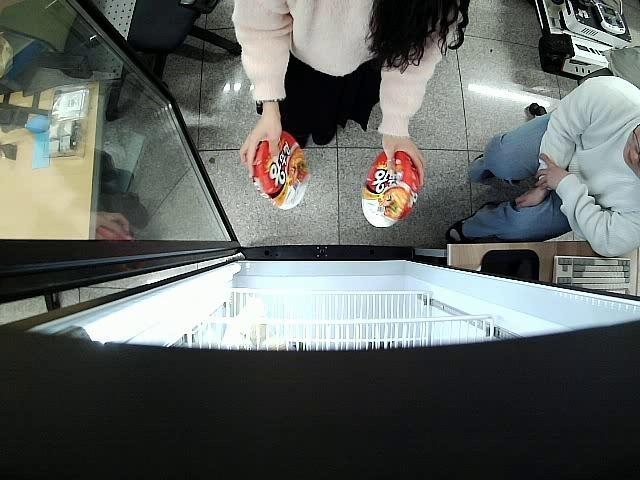10_wangTtukkeong: (360, 150, 420, 228), (252, 134, 310, 210)
